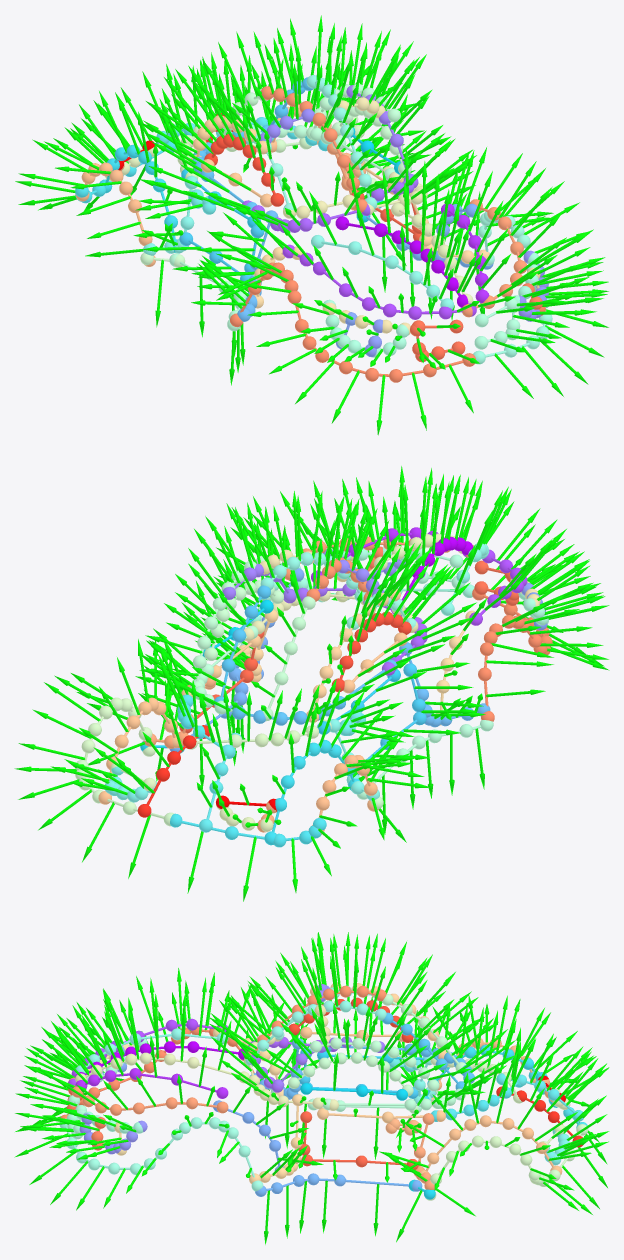
File: author1_car.gltf
The picture shows the model from 3 angles, top to bottom: view 1: azimuth 30°, elevation 25°; view 2: azimuth 150°, elevation 25°; view 3: azimuth 270°, elevation 25°; orthographic projection. The views are drawn at different scales.
Bounding box in the file's own units: 0.5911 × 0.467 × 0.9979.
